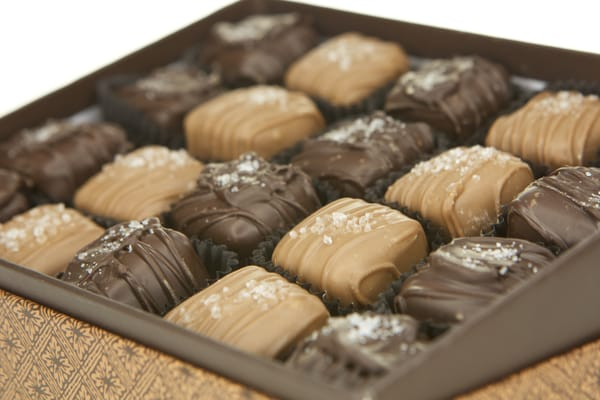salad: (271, 196, 429, 314), (167, 151, 321, 270), (162, 264, 331, 362), (384, 144, 534, 250), (57, 217, 211, 316), (383, 53, 513, 147), (164, 185, 312, 267), (0, 116, 132, 205), (93, 60, 223, 148), (181, 84, 326, 162), (283, 30, 411, 117), (72, 144, 205, 226), (484, 88, 600, 178), (498, 177, 599, 255), (0, 202, 106, 276)
sushi: (162, 263, 330, 362)
